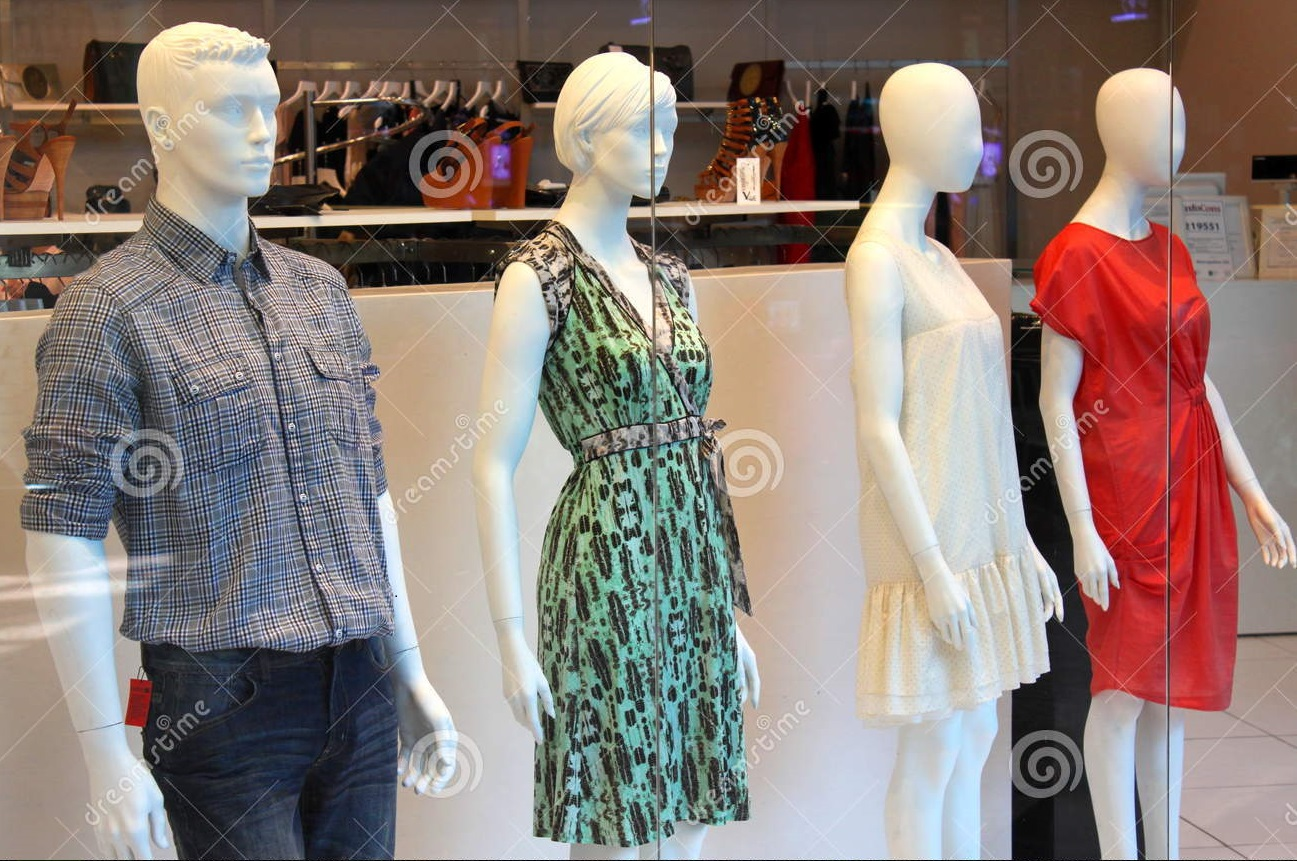person-like: (16, 13, 464, 861), (461, 47, 769, 861), (1023, 58, 1293, 861), (835, 54, 1071, 861)
